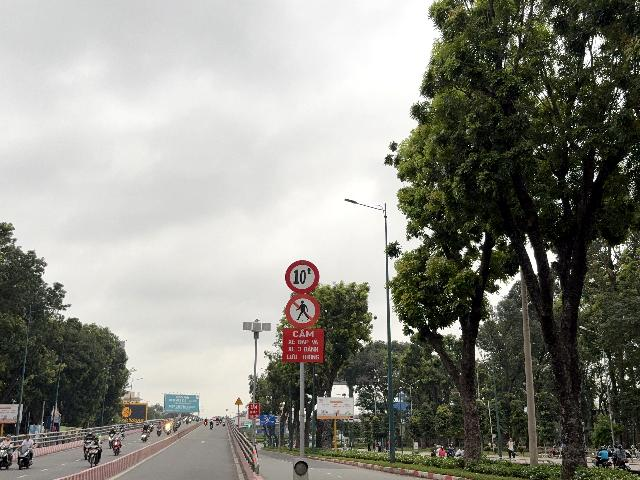cam-nguoi-di-bo: (285, 294, 320, 328)
han-che-trong-luong-xe: (285, 260, 320, 294)
